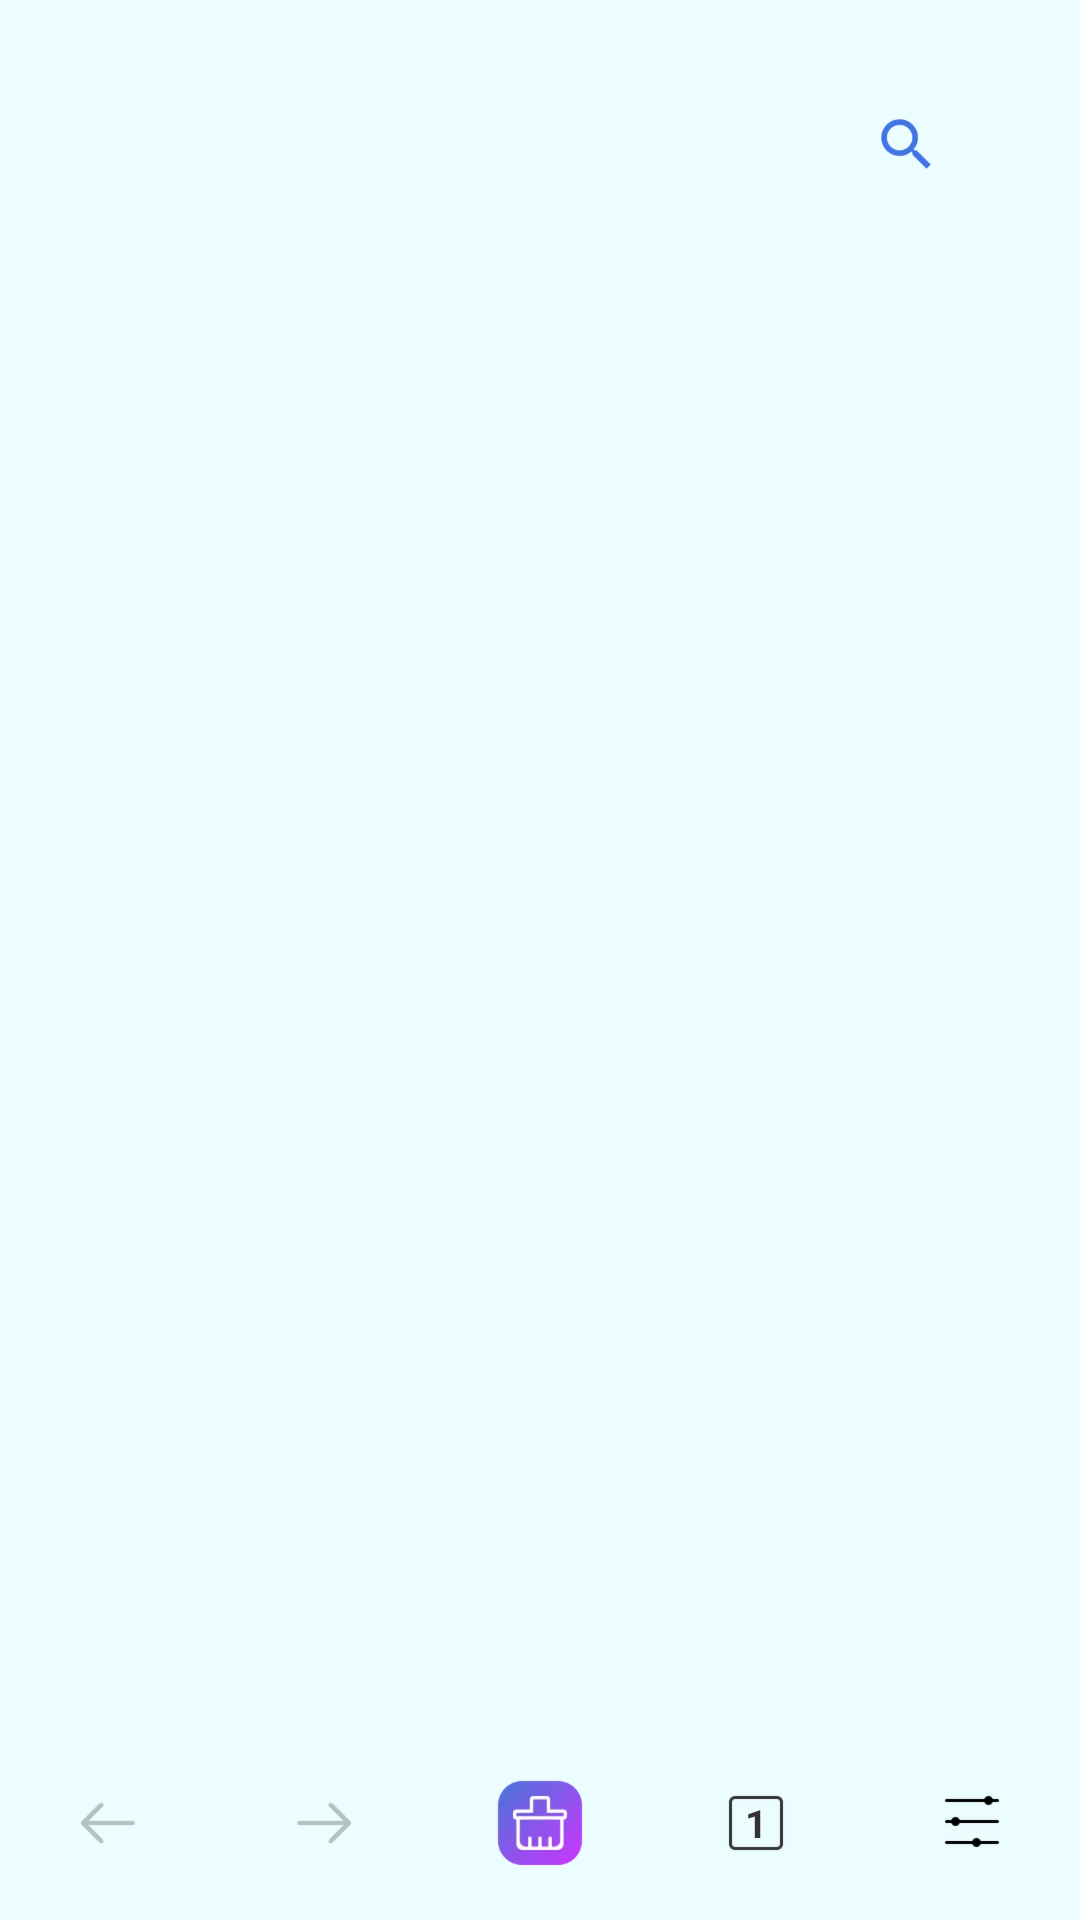

Icons on this 1080 × 1920 Android screen, each with the point to tap as (x=x, y=y):
search: (x=906, y=144)
